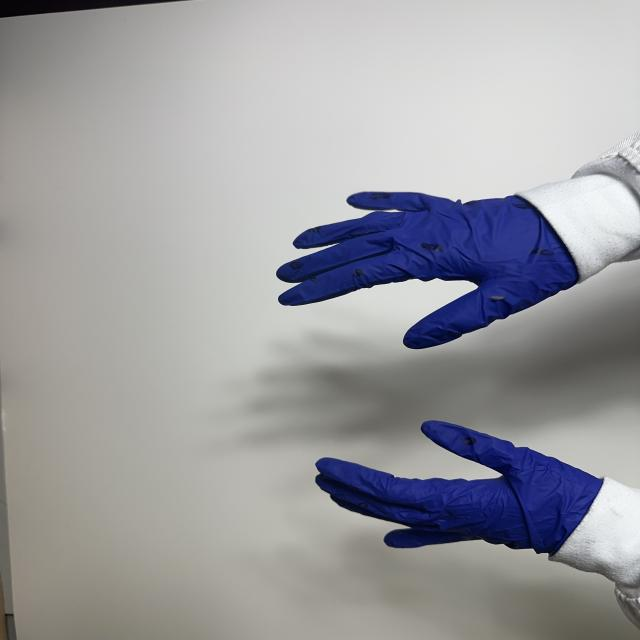gloves_contaminated: (277, 192, 578, 349), (316, 421, 602, 552)
